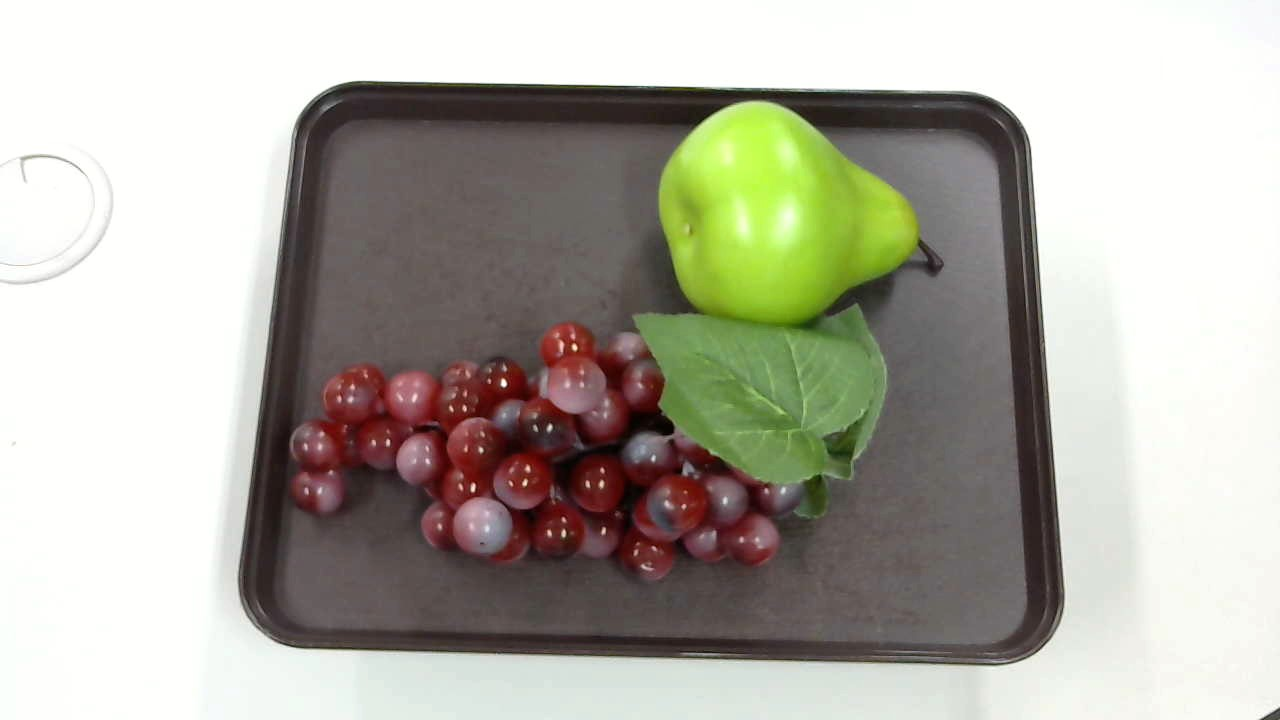grape: (286, 293, 885, 585)
green pear: (654, 95, 951, 325)
